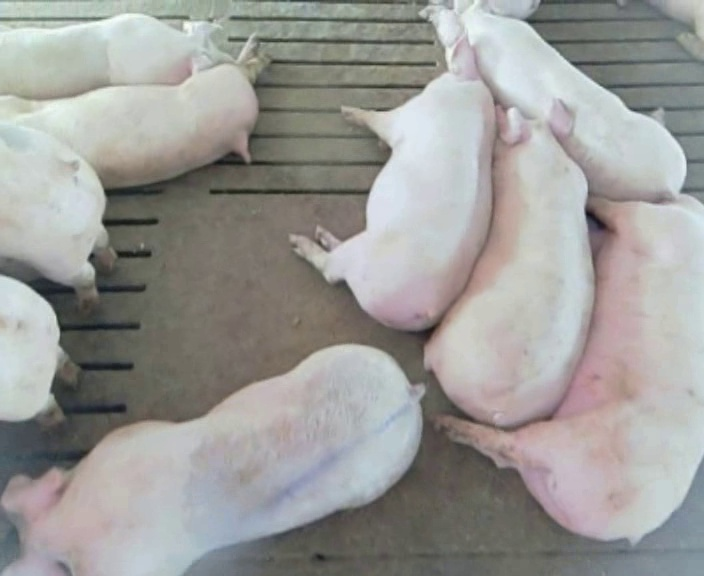pig: (2, 345, 423, 573), (436, 195, 703, 541), (290, 31, 494, 330), (425, 98, 594, 426), (422, 1, 685, 200), (0, 14, 232, 98)
